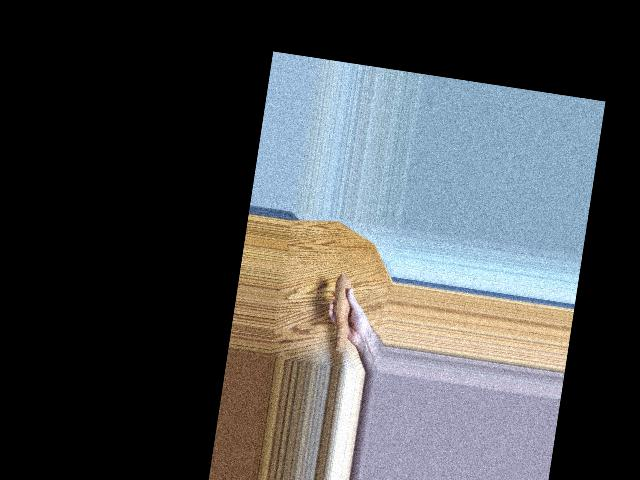sweet_potato: (323, 271, 358, 355)
